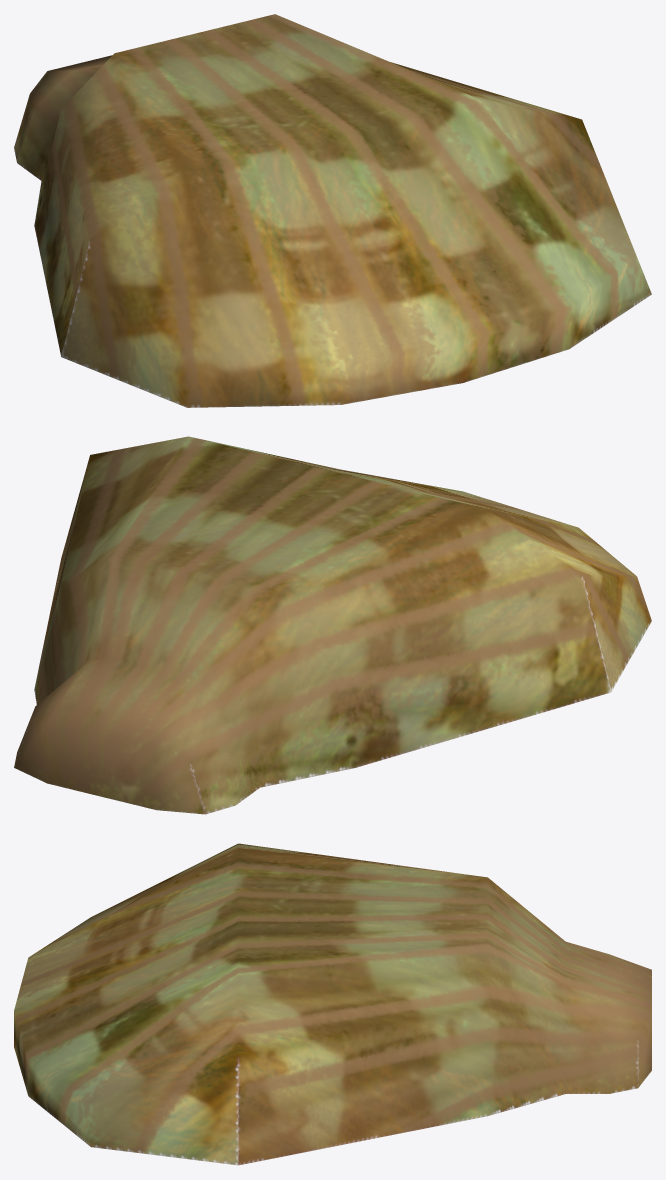
Rendered from Shell01.glb.
3 renders of one model, top to bottom at view 1: azimuth 30°, elevation 25°; view 2: azimuth 150°, elevation 25°; view 3: azimuth 270°, elevation 25°, orthographic. The views are drawn at different scales.
Parts seen in each view (by area): view 1: Shell01; view 2: Shell01; view 3: Shell01.
Boxes of the visible parts, x1,y1,x2,y2 form: Shell01: (14,14,651,407); Shell01: (14,436,651,814); Shell01: (14,843,651,1165).
Size of the model in its own units: 0.6242 by 0.1659 by 0.7104.
Materials: 1 (1 with a texture image).
